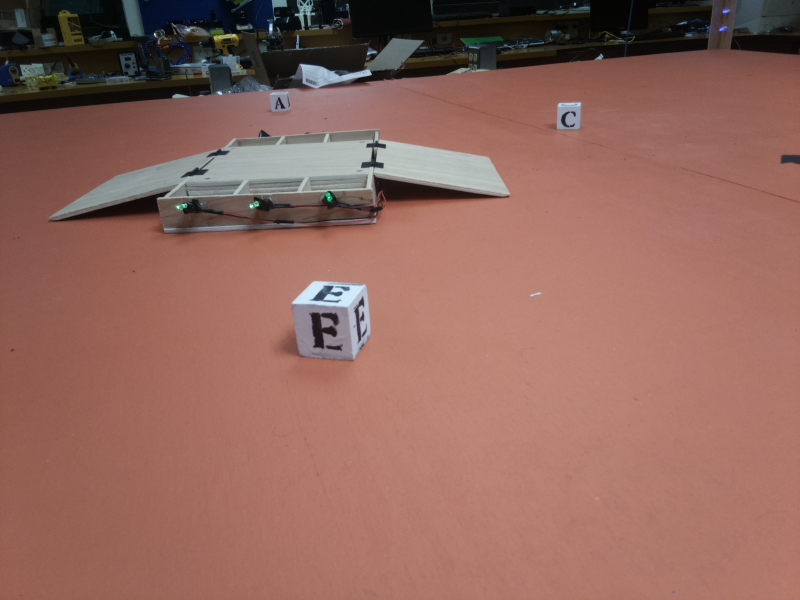blockA: (268, 90, 290, 113)
blockC: (554, 99, 588, 133)
blockE: (290, 278, 370, 362)
corner: (711, 3, 737, 52)
side: (154, 190, 379, 230), (222, 126, 386, 137)
slope: (47, 146, 215, 224), (371, 139, 509, 209)
start: (778, 150, 800, 172)
